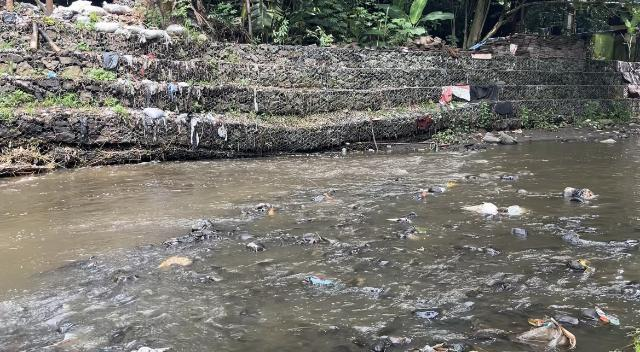Sampah Anorganik: (378, 329, 474, 352), (516, 320, 577, 350), (55, 325, 111, 352), (561, 186, 598, 205), (596, 308, 623, 328), (459, 202, 498, 215), (305, 275, 334, 290), (385, 213, 416, 227), (505, 205, 525, 215), (444, 183, 459, 190)
Sampah Organik: (148, 256, 196, 269), (348, 276, 378, 287), (576, 258, 587, 268), (161, 237, 174, 244), (266, 209, 277, 216), (323, 195, 332, 200), (422, 191, 426, 196)
